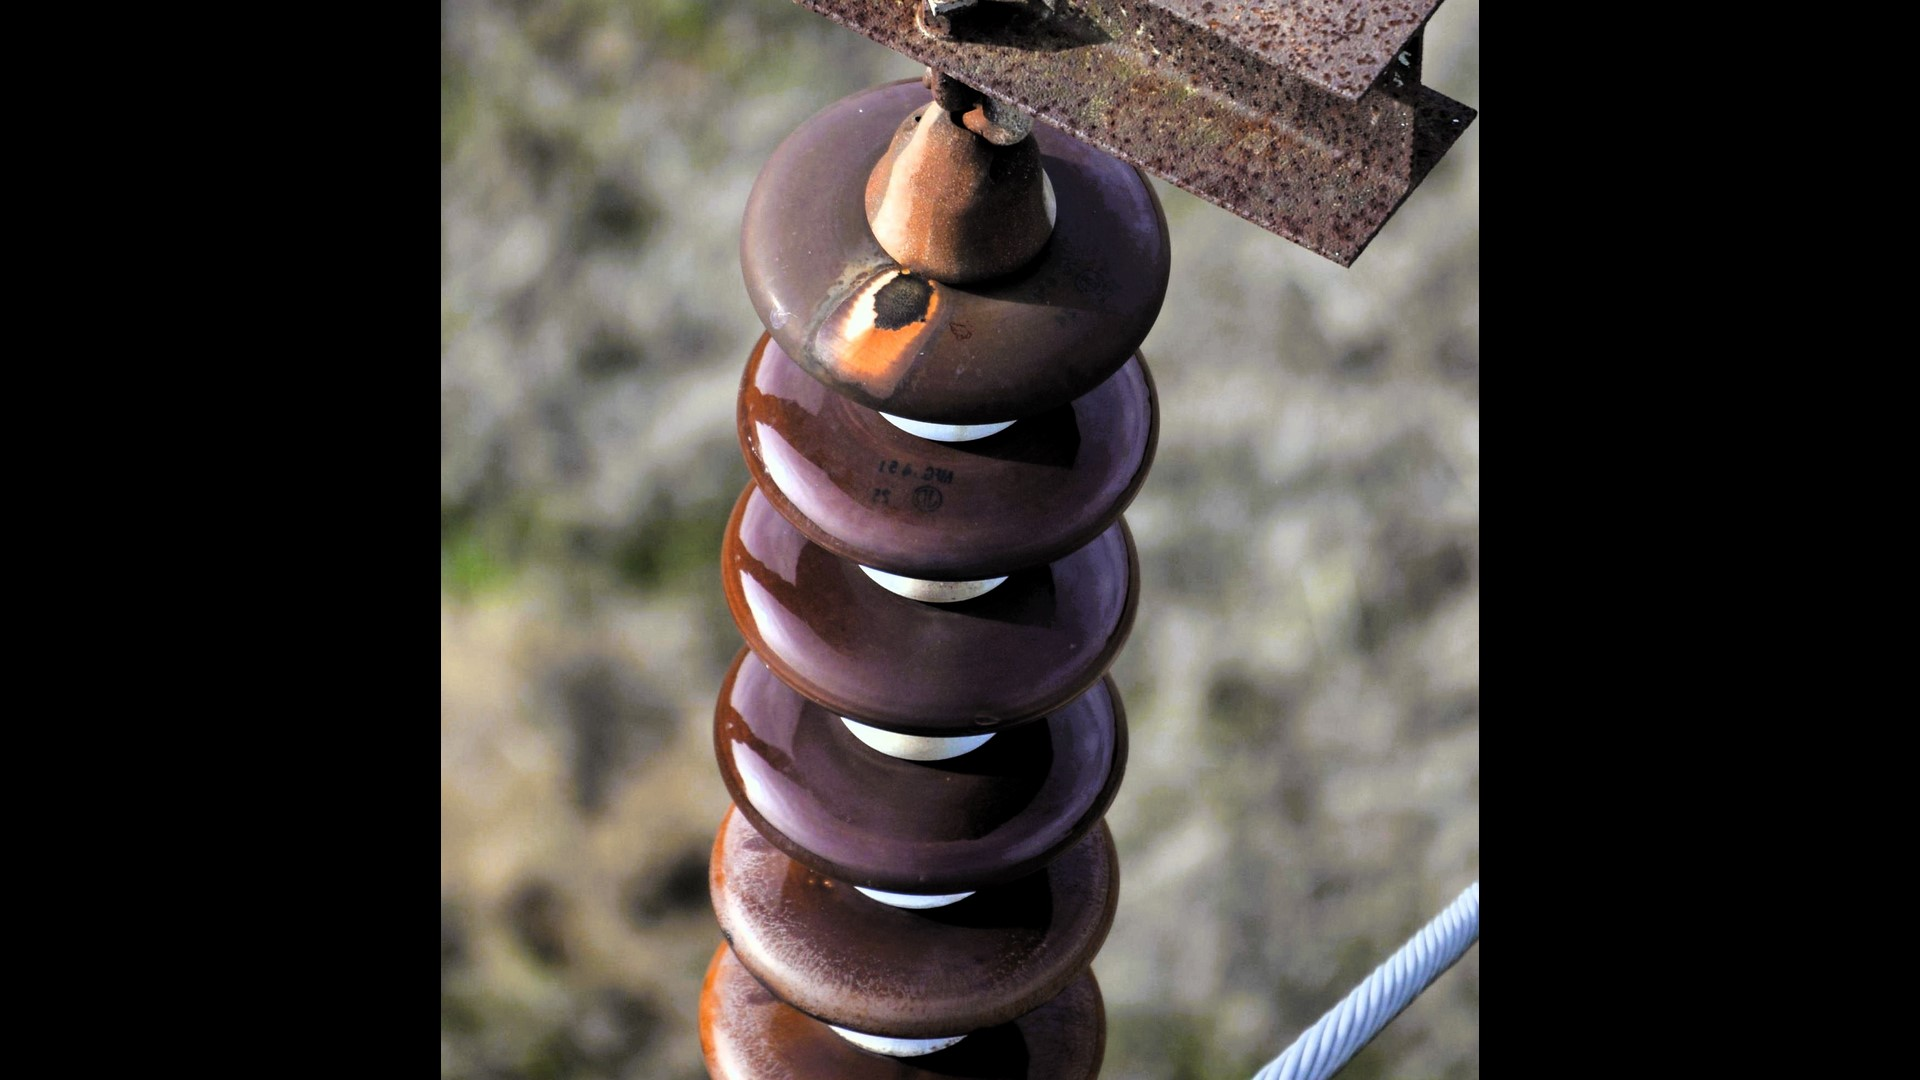Insulator flashover: (731, 83, 1183, 425)
